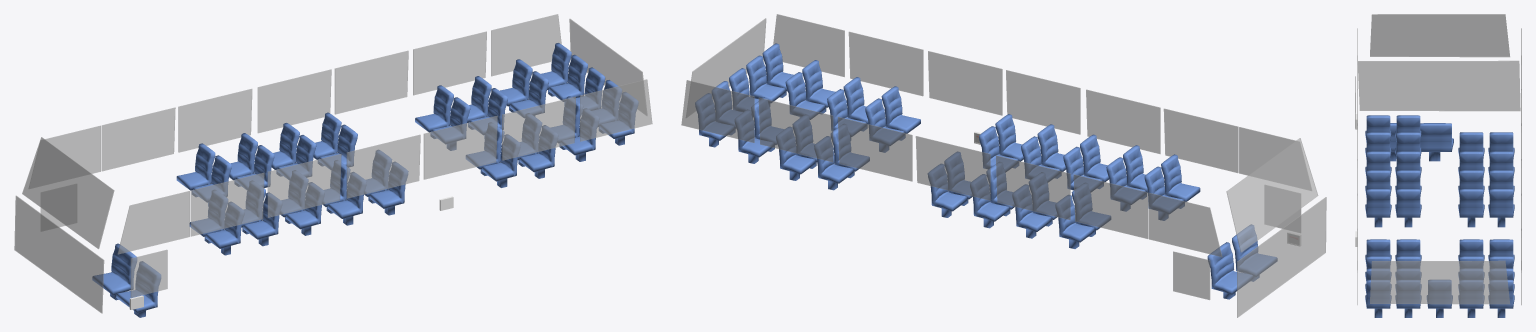
Rendered from glass_sit.fbx.
The picture shows the model from 3 angles, left to right: view 1: azimuth 30°, elevation 25°; view 2: azimuth 150°, elevation 25°; view 3: azimuth 270°, elevation 25°; orthographic projection. The views are drawn at different scales.
Visible parts, largest first — view 1: glass_01, glass_02, glass_10, glass_09, glass_17, glass_07, glass_08, glass_14, glass_11, glass_16, glass_15, glass_18 (+26 smaller); view 2: glass_01, glass_02, glass_18, glass_14, glass_16, glass_17, glass_15, glass_10, glass_07, glass_11, glass_09, glass_08 (+26 smaller); view 3: glass_02, glass_05, glass_01, new_sit014, new_sit005, new_sit018, new_sit009, new_sit019, new_sit012, new_sit003, new_sit011, new_sit002 (+10 smaller).
Part boxes in pixels (<box>): glass_01: <box>22,137,114,248</box>; glass_02: <box>14,195,104,313</box>; glass_10: <box>423,116,497,179</box>; glass_09: <box>346,134,420,198</box>; glass_17: <box>334,50,408,114</box>; glass_07: <box>190,173,264,236</box>; glass_08: <box>267,154,341,217</box>; glass_14: <box>101,107,175,171</box>; glass_11: <box>502,96,575,160</box>; glass_16: <box>257,69,331,133</box>; glass_15: <box>178,89,252,152</box>; glass_18: <box>413,31,486,95</box>; glass_01: <box>1226,138,1318,252</box>; glass_02: <box>1237,197,1326,317</box>; glass_18: <box>758,97,833,162</box>; glass_14: <box>1073,174,1148,238</box>; glass_16: <box>915,136,990,200</box>; glass_17: <box>838,117,912,181</box>; glass_15: <box>996,155,1070,219</box>; glass_10: <box>928,51,1002,115</box>; glass_07: <box>1163,108,1238,172</box>; glass_11: <box>848,31,923,96</box>; glass_09: <box>1006,70,1080,134</box>; glass_08: <box>1086,89,1160,153</box>; glass_02: <box>1358,60,1520,111</box>; glass_05: <box>1370,260,1509,304</box>; glass_01: <box>1370,14,1509,57</box>; new_sit014: <box>1458,189,1514,227</box>; new_sit005: <box>1365,189,1421,227</box>; new_sit018: <box>1458,279,1514,317</box>; new_sit009: <box>1365,279,1421,317</box>; new_sit019: <box>1390,123,1453,161</box>; new_sit012: <box>1458,151,1514,177</box>; new_sit003: <box>1365,151,1421,178</box>; new_sit011: <box>1458,132,1514,158</box>; new_sit002: <box>1365,132,1421,159</box>.
Bounding box in the file's own units: 4561 × 1115 × 1300.
